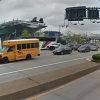Bus: (4, 36, 43, 64)
